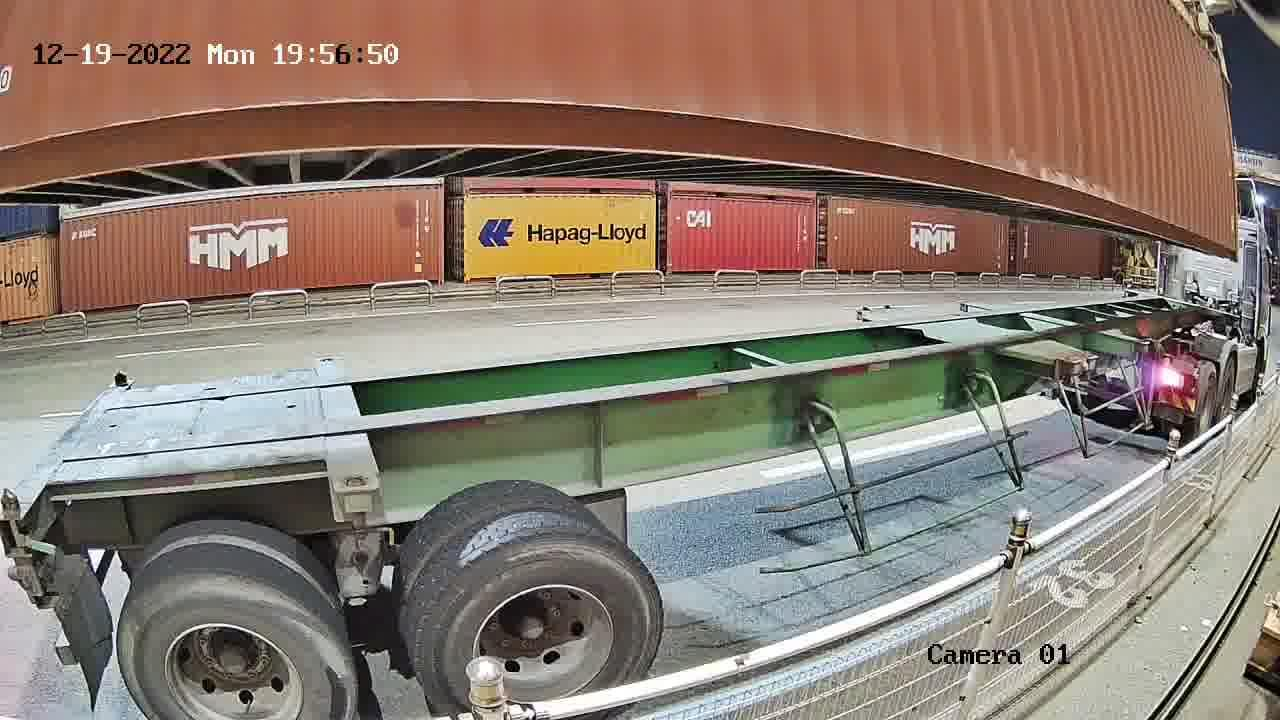Chassis: (1, 382, 131, 521)
Cone: (0, 489, 30, 560), (106, 368, 133, 384)
Tire: (427, 540, 663, 710), (118, 567, 354, 719)
